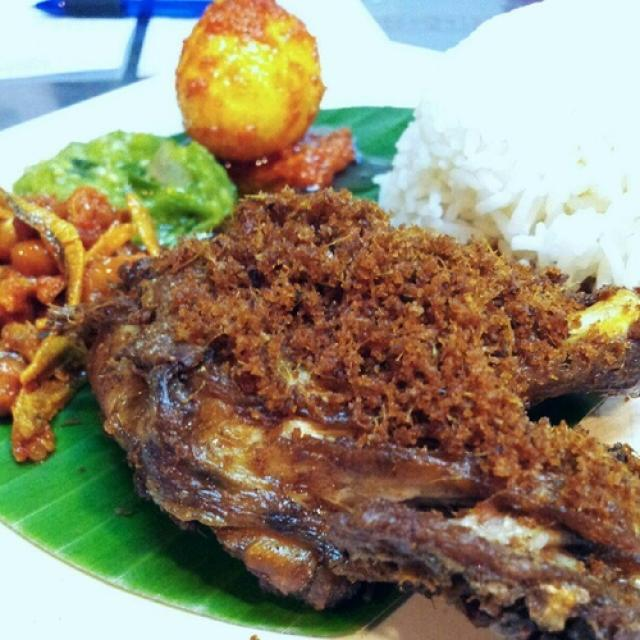鸡肉料理 含炸鸡: (32, 52, 621, 618)
